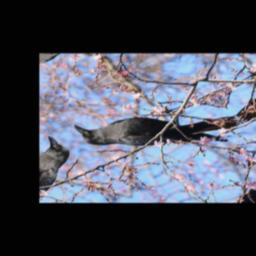Crow: (69, 75, 249, 184)
